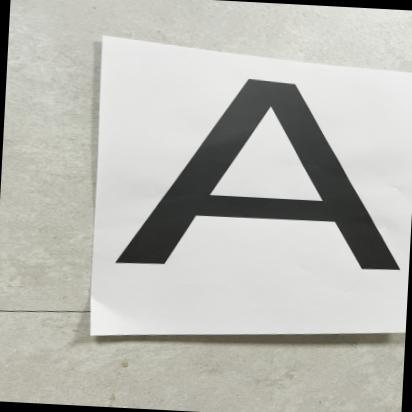seat: (101, 69, 408, 290)
